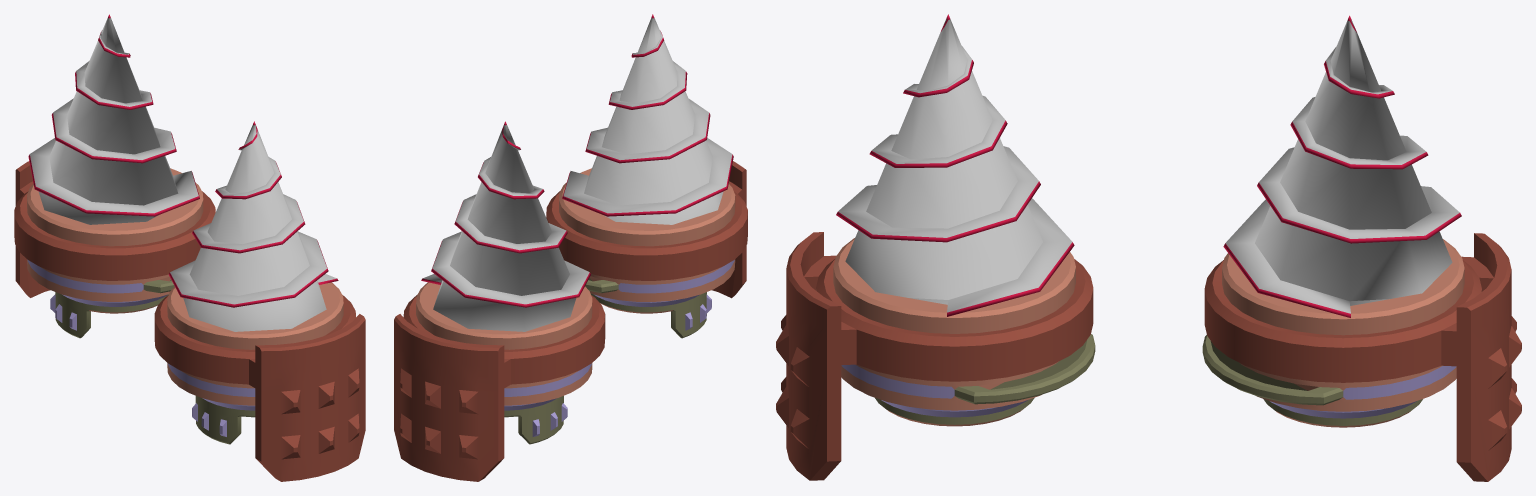
File: Drill.fbx
The picture shows the model from 3 angles, left to right: view 1: azimuth 30°, elevation 25°; view 2: azimuth 150°, elevation 25°; view 3: azimuth 270°, elevation 25°; orthographic projection. The views are drawn at different scales.
Parts seen in each view (by area): view 1: Cylinder, Spiral.000; view 2: Cylinder, Spiral.000; view 3: Cylinder, Spiral.000.
Part boxes in pixels (x1,y1,x2,y2): Cylinder: (14,161,365,481); Spiral.000: (28,14,338,331); Cylinder: (394,161,747,481); Spiral.000: (421,14,733,331); Cylinder: (776,232,1521,481); Spiral.000: (836,14,1461,317).
Size of the model in its own units: 1604 by 2730 by 4281.
